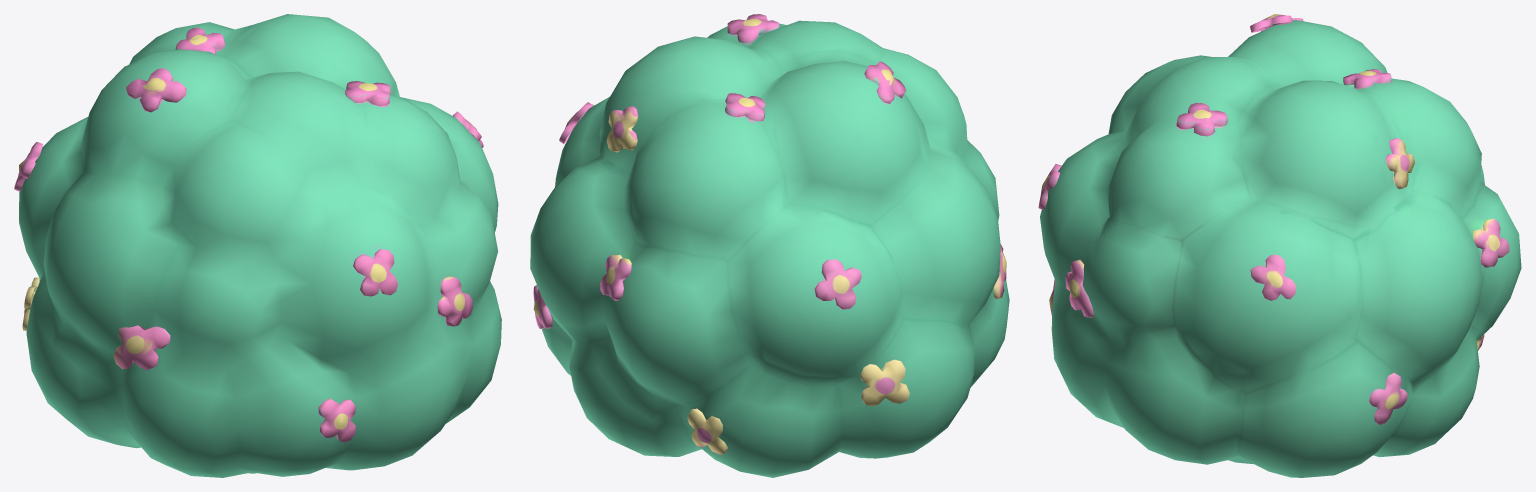
File: bush.glb
3 views of the same model, side by side, from view 1: azimuth 30°, elevation 25°; view 2: azimuth 150°, elevation 25°; view 3: azimuth 270°, elevation 25° (orthographic). The views are drawn at different scales.
Bounding box in the file's own units: 0.9126 × 0.835 × 0.958.
Materials: 1 (1 with a texture image).
